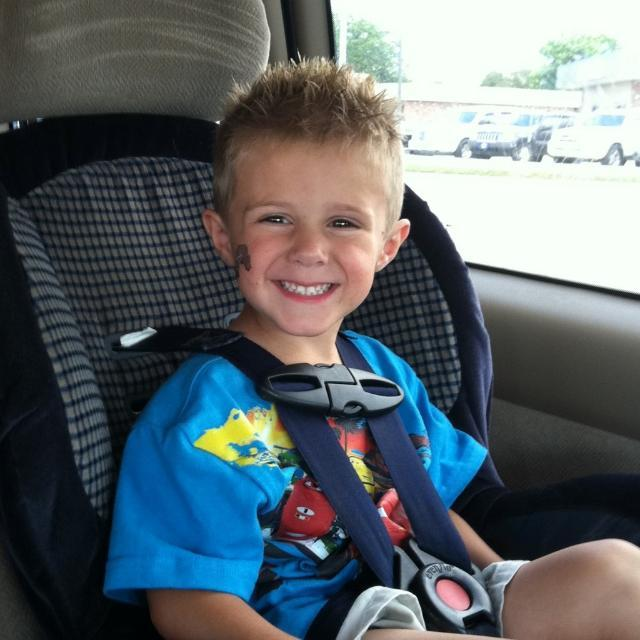SafeDriving: (245, 202, 302, 234), (318, 205, 370, 239)
Seatbelt: (125, 322, 397, 590)
